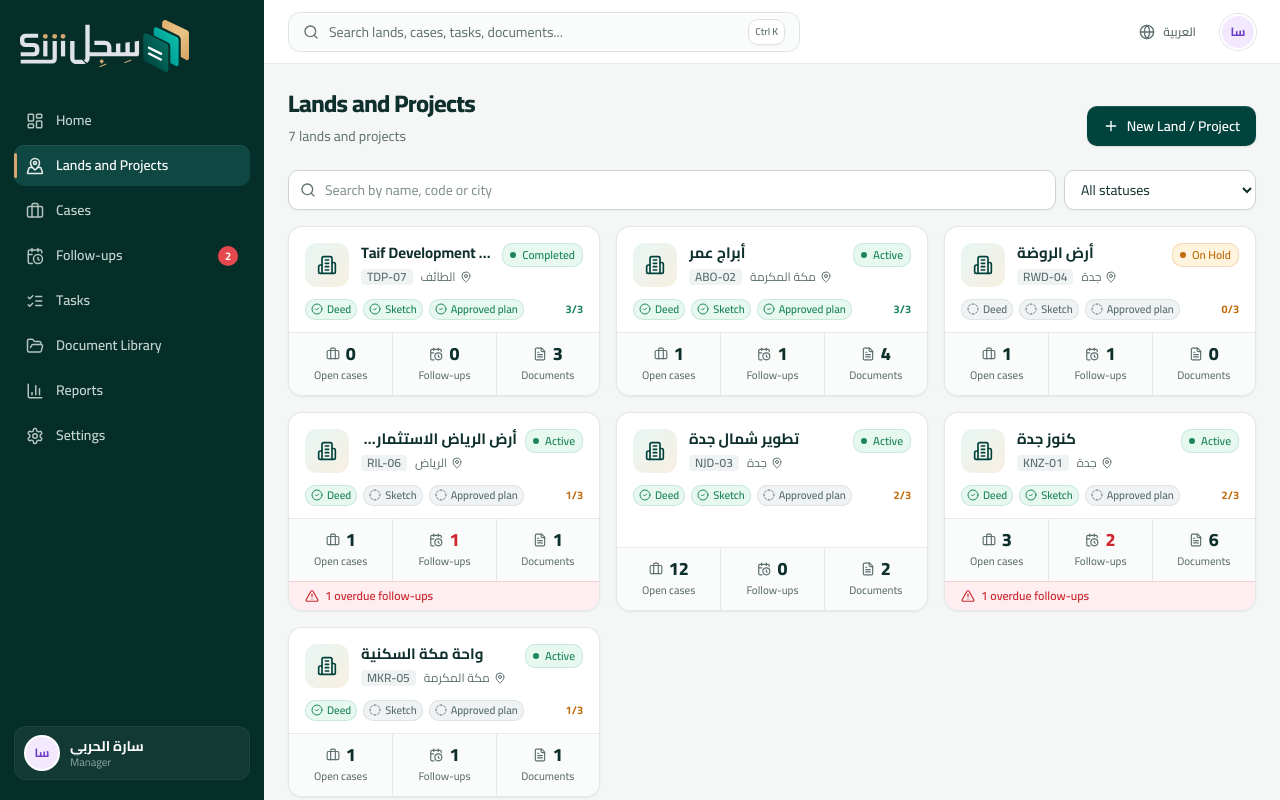
it: lands › lists lands and filters by search
expect the heading "كنوز جدة" is shown: met, box [1017,429,1076,450]
Type "الرياض" into the search field at (672, 190), box [288,170,1056,210]
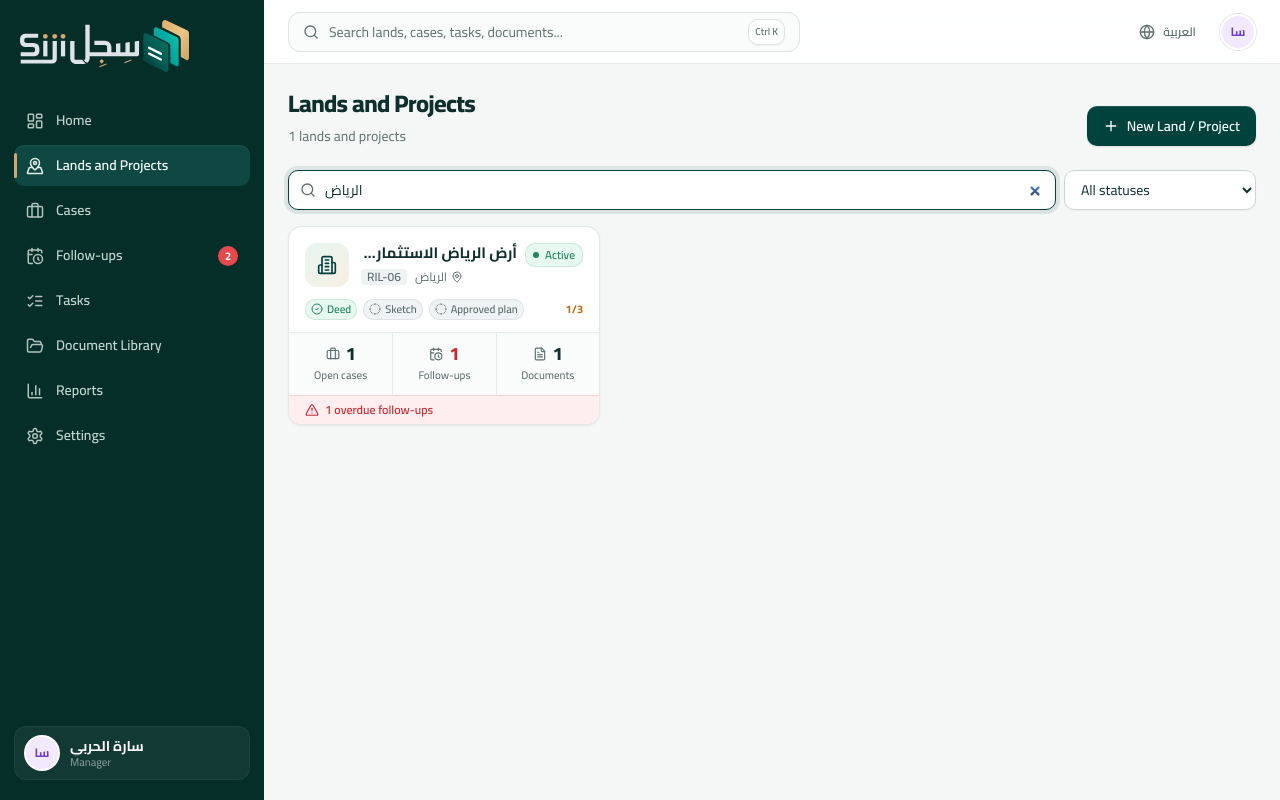
expect the heading "أرض الرياض الاستثمارية" is shown: met, box [361,243,517,264]
expect the link "كنوز جدة" is gone: met
